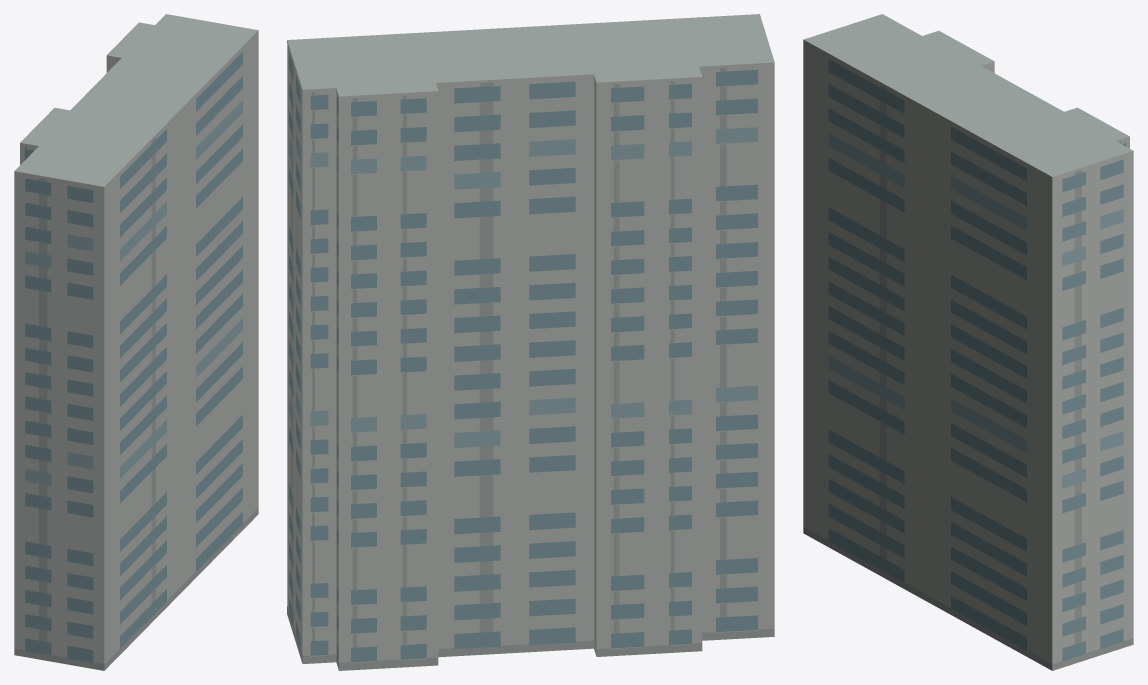
The model's file is residential-c264297c-2560-4c63-8b01-a53ae86ca4e5.glb.
3 renders of one model, left to right at view 1: azimuth 30°, elevation 25°; view 2: azimuth 150°, elevation 25°; view 3: azimuth 270°, elevation 25°, orthographic. The views are drawn at different scales.
Visible parts, largest first — view 1: residential-c264297c-2560-4c63-8b01-a53ae86ca4e5.tmp; view 2: residential-c264297c-2560-4c63-8b01-a53ae86ca4e5.tmp; view 3: residential-c264297c-2560-4c63-8b01-a53ae86ca4e5.tmp.
Part boxes in pixels (x1=…): residential-c264297c-2560-4c63-8b01-a53ae86ca4e5.tmp: x1=14, y1=14, x2=258, y2=670; residential-c264297c-2560-4c63-8b01-a53ae86ca4e5.tmp: x1=287, y1=14, x2=774, y2=670; residential-c264297c-2560-4c63-8b01-a53ae86ca4e5.tmp: x1=803, y1=14, x2=1133, y2=670.
Size of the model in its own units: 38.97 by 55 by 33.33.
